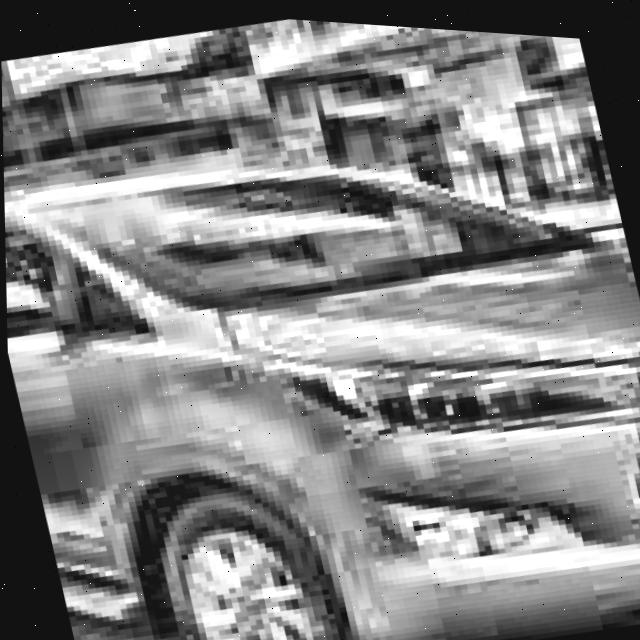light_vehicle: (1, 55, 640, 640)
